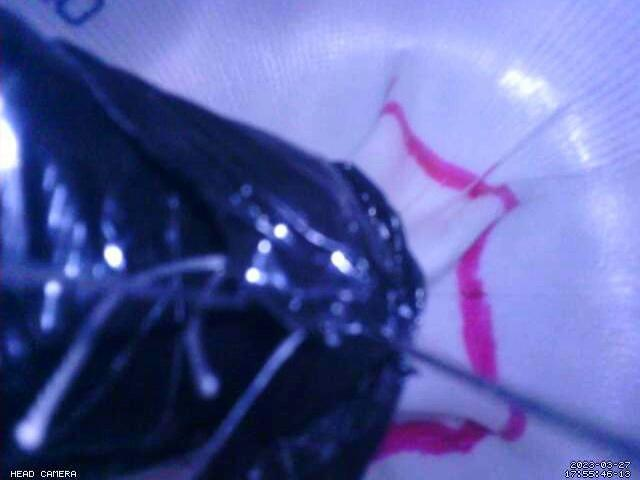red-circle: (372, 101, 527, 457)
